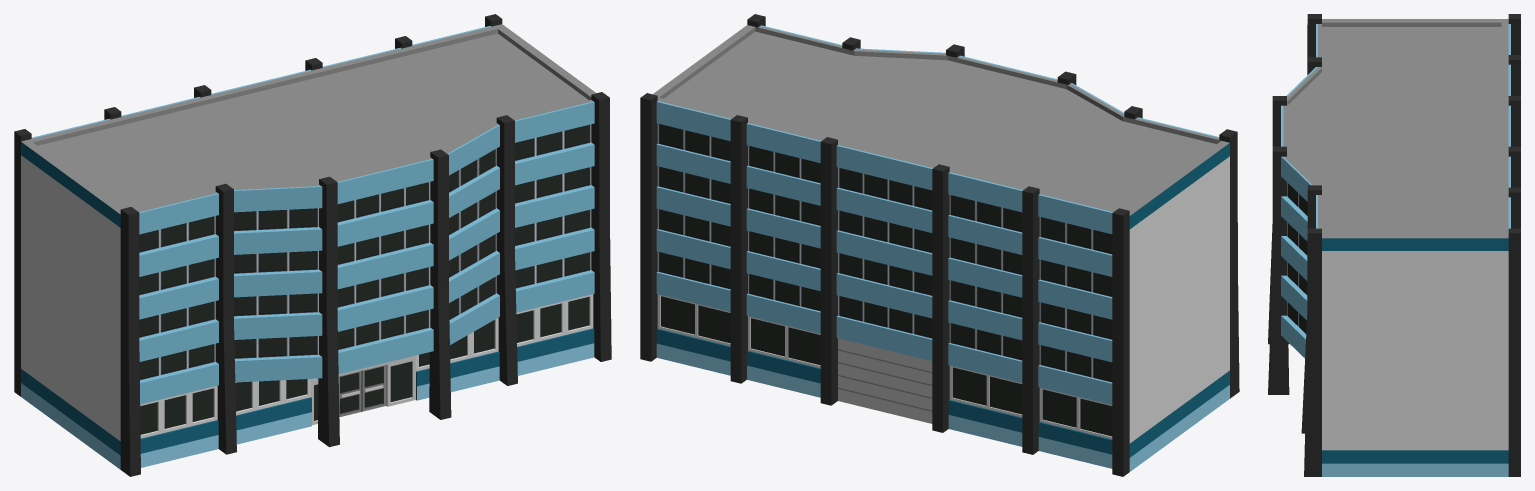
3 views of the same model, side by side, from view 1: azimuth 30°, elevation 25°; view 2: azimuth 150°, elevation 25°; view 3: azimuth 270°, elevation 25° (orthographic). The views are drawn at different scales.
Parts seen in each view (by area): view 1: BB-06; view 2: BB-06; view 3: BB-06.
Part boxes in pixels (bbox=[...]): BB-06: bbox=[14, 14, 611, 476]; BB-06: bbox=[640, 14, 1239, 476]; BB-06: bbox=[1268, 14, 1520, 476].
Size of what is drawn, in the model's own units: 35.51 by 18.37 by 17.29.
